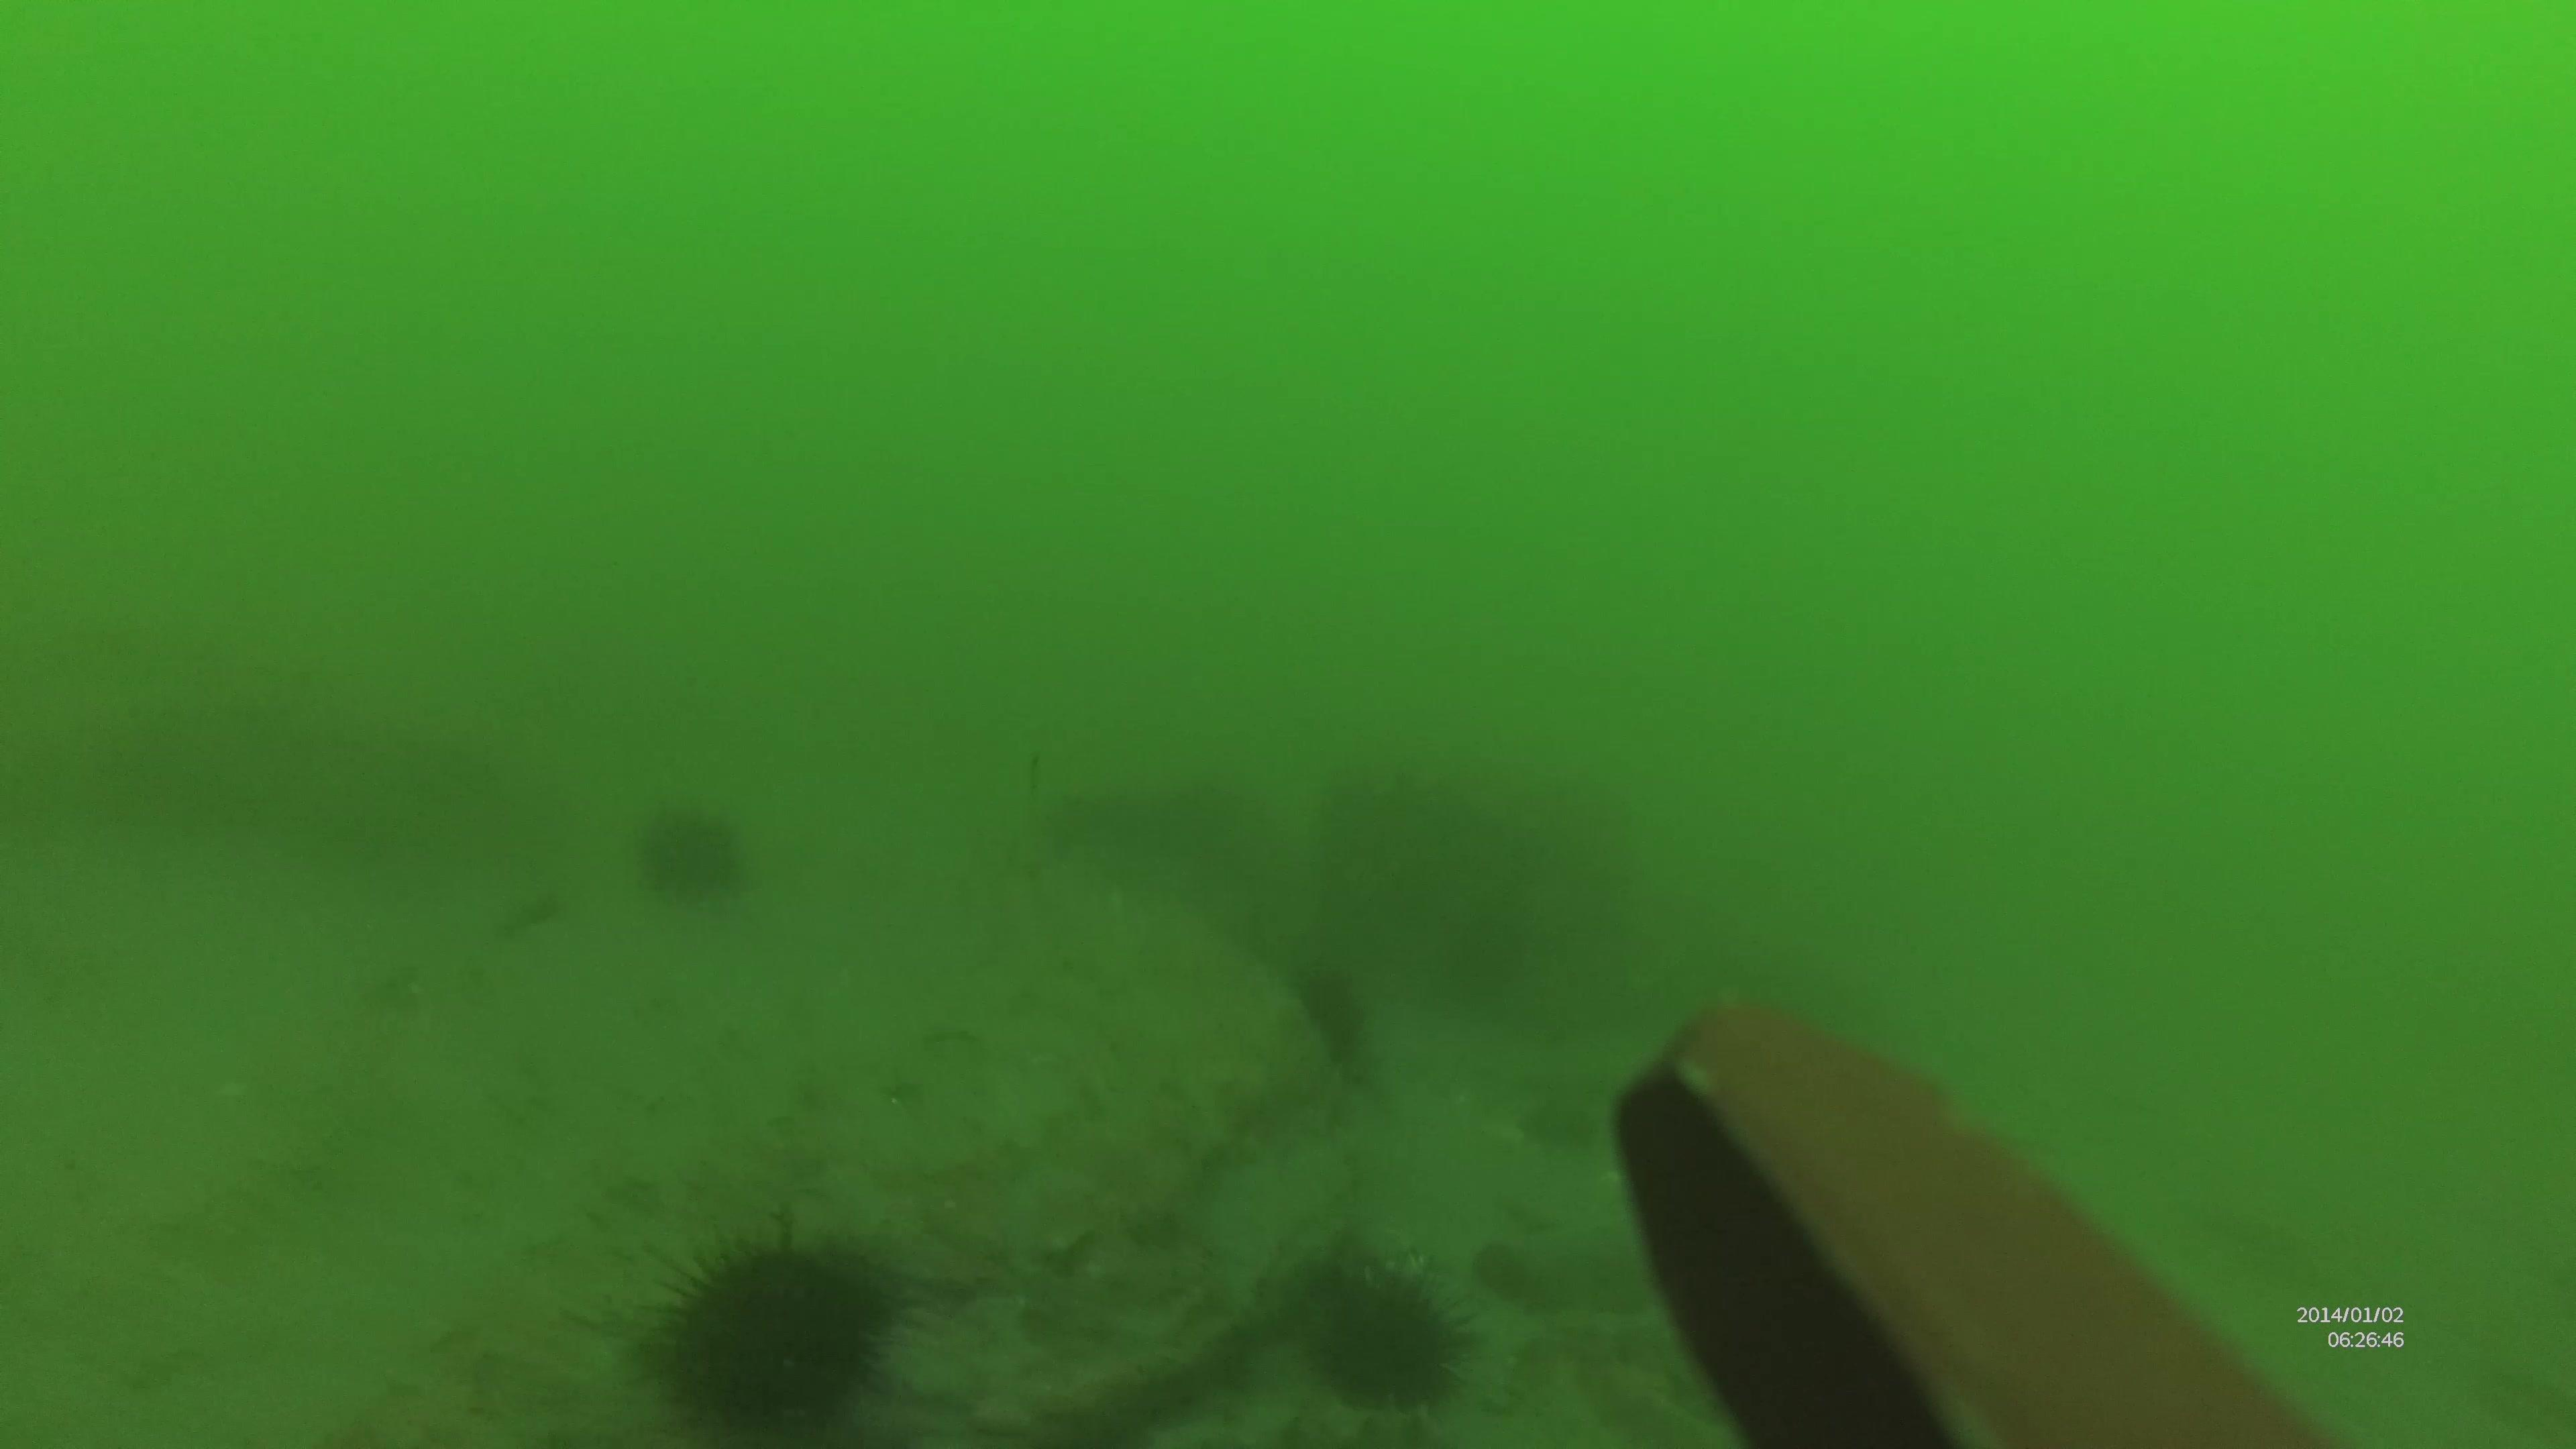echinus: (626, 1215, 929, 1430), (1306, 1253, 1476, 1421), (635, 805, 752, 908)
